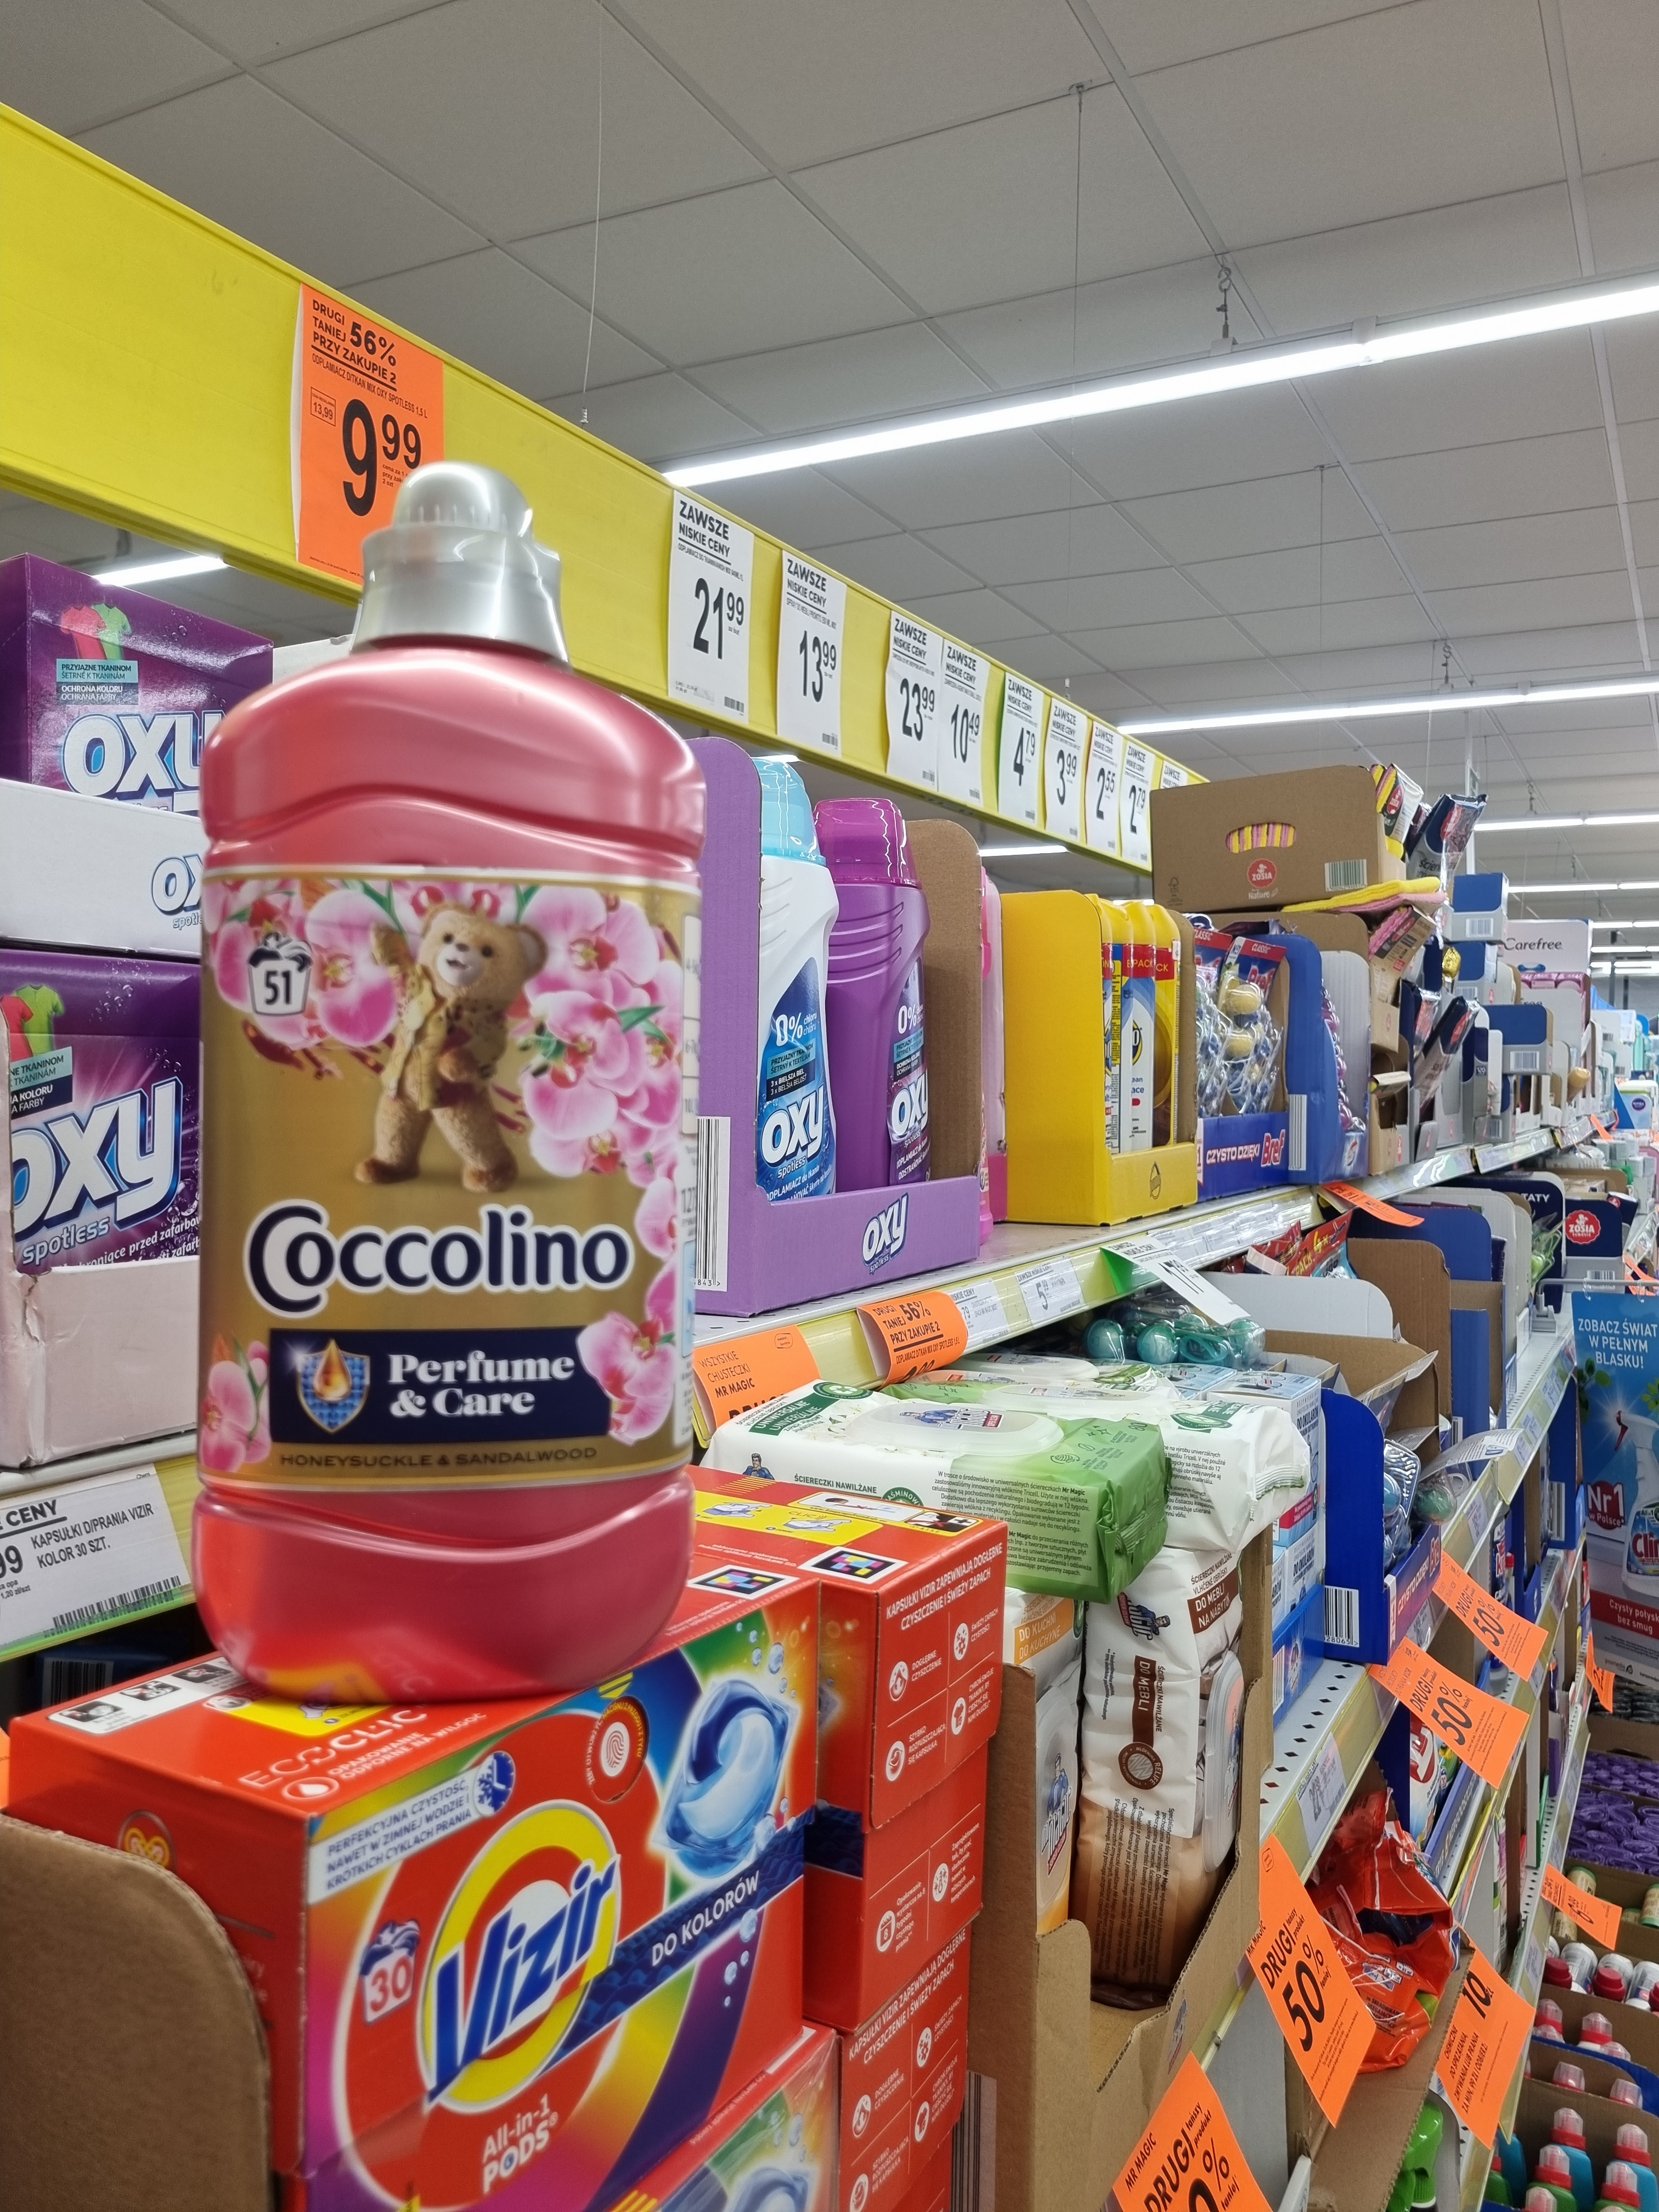cocolino: (186, 596, 685, 1688)
